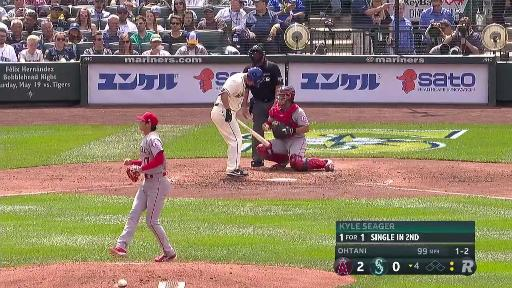pitcher: (108, 112, 182, 263)
